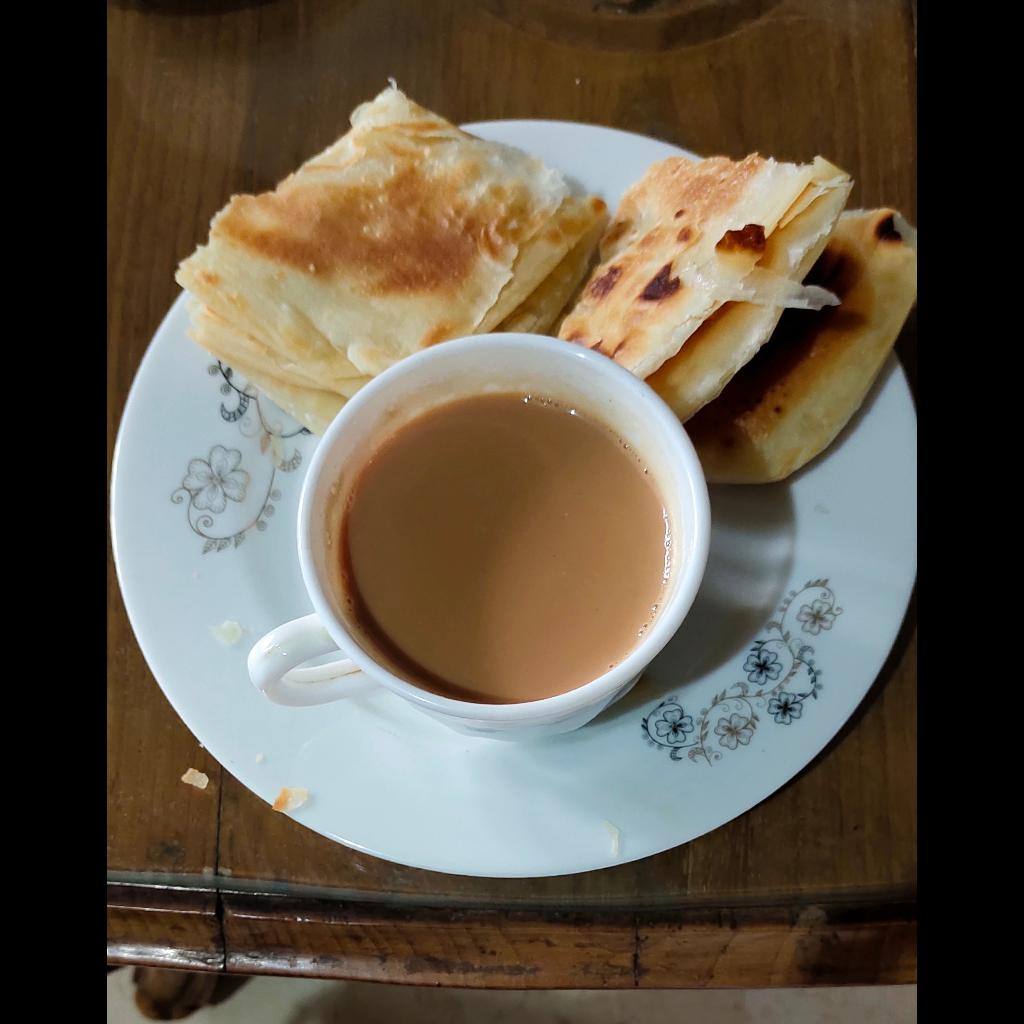cha: (336, 394, 666, 699)
ruti: (167, 88, 917, 484)
